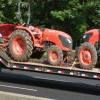Tractor: (11, 14, 88, 79)
